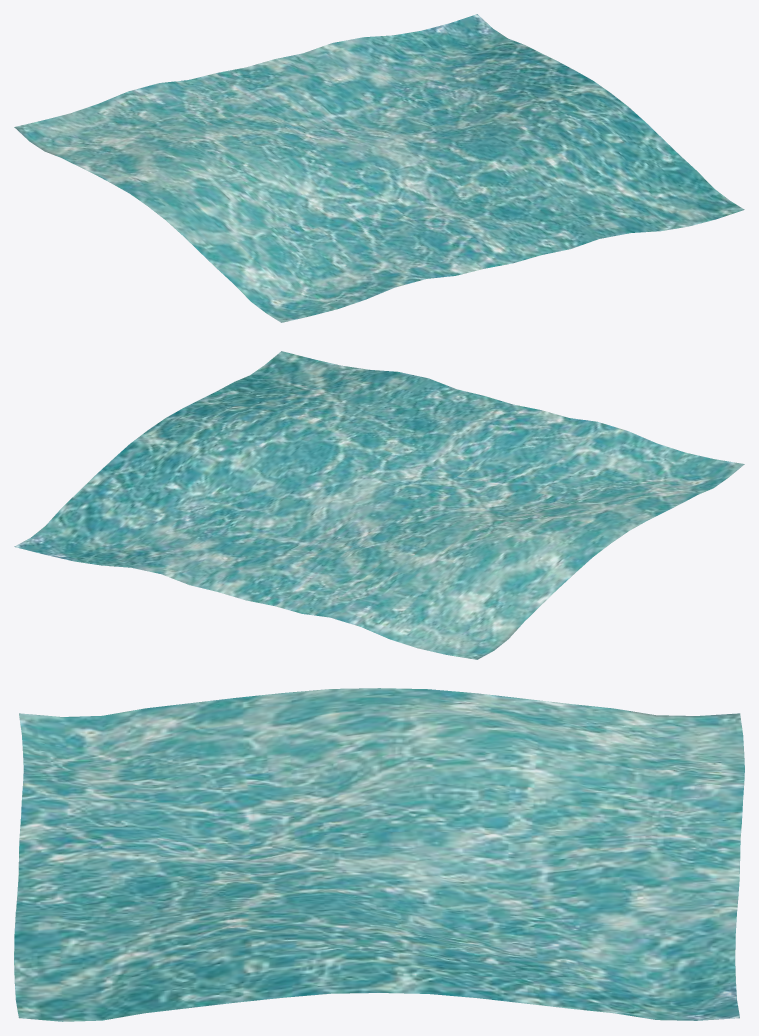
Rendered from water_000016.obj.
The picture shows the model from 3 angles, top to bottom: view 1: azimuth 30°, elevation 25°; view 2: azimuth 150°, elevation 25°; view 3: azimuth 270°, elevation 25°; orthographic projection. The views are drawn at different scales.
Visible parts, largest first — view 1: Plan.003_Plan.001; view 2: Plan.003_Plan.001; view 3: Plan.003_Plan.001.
Part boxes in pixels (x1=…): Plan.003_Plan.001: x1=14, y1=14, x2=744, y2=322; Plan.003_Plan.001: x1=14, y1=351, x2=744, y2=659; Plan.003_Plan.001: x1=14, y1=688, x2=744, y2=1021.
Bounding box in the file's own units: 60528 × 3631 × 61147.
1 material, 1 textured.
